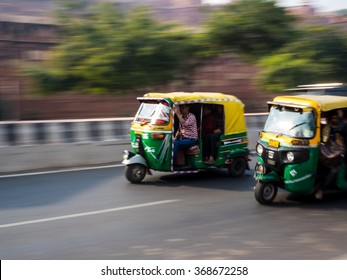threewheel: (120, 91, 250, 183), (251, 94, 347, 206)
